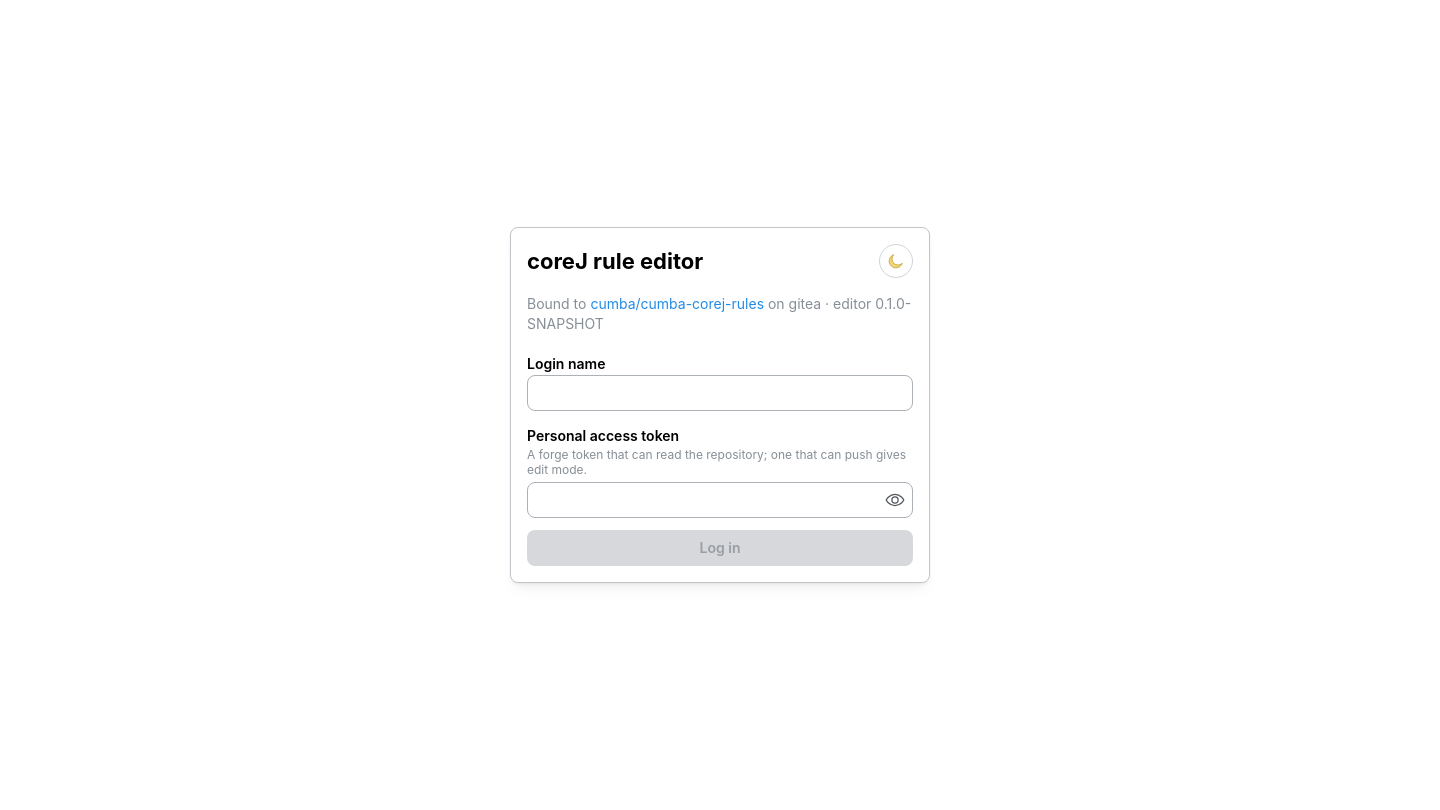
Scenario: App › shows the login page without a session, then the editor after login, then logs out
Expected: the form "Login" is shown, [527,351,913,566]
Expected: the link "cumba/cumba-corej-rules" is shown, [590,295,764,312]
Type "alice" into the field labelled "Login name" at (720, 393), box [527,375,913,411]
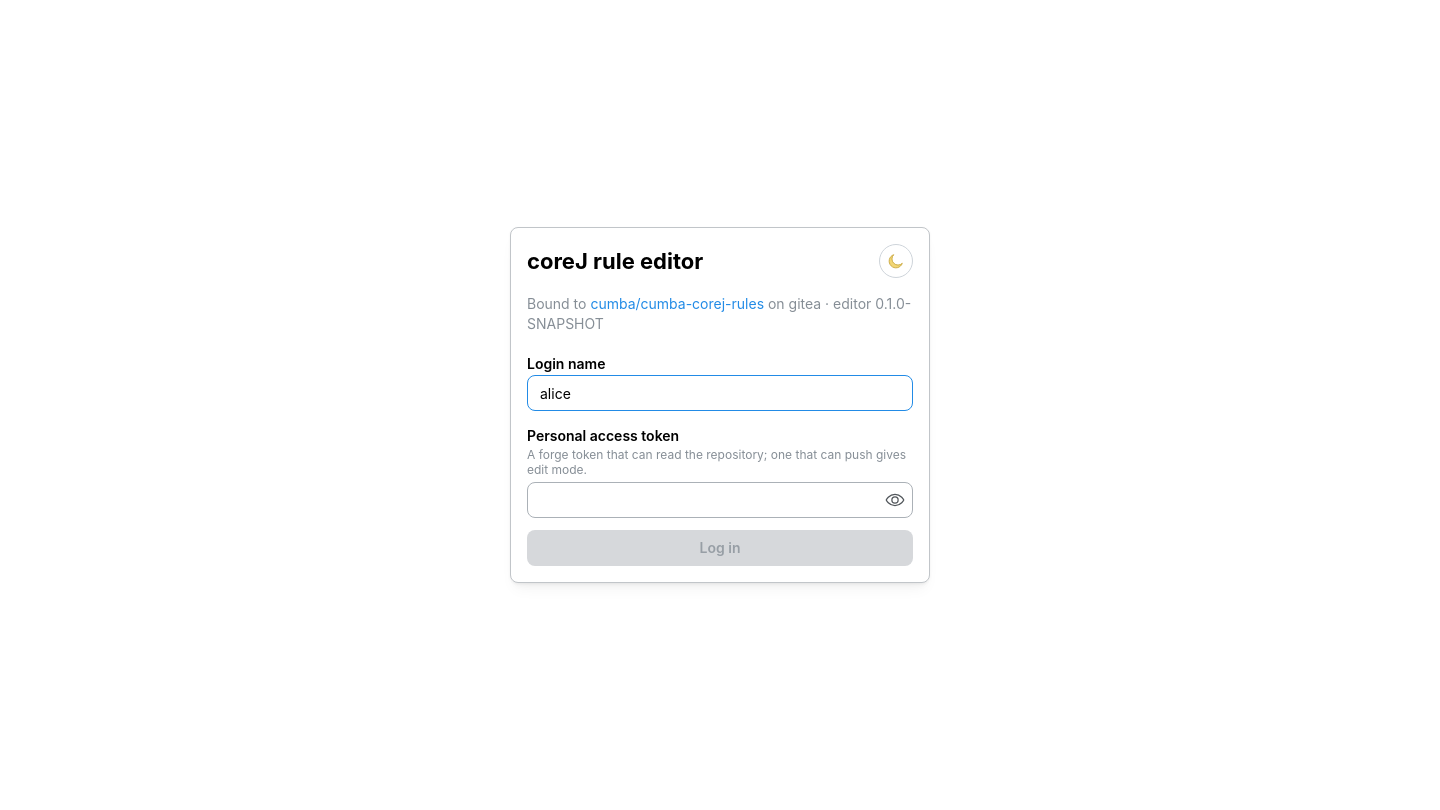
Type "tok" into the password field labelled "Personal access token" at (720, 500), box [528,483,912,517]
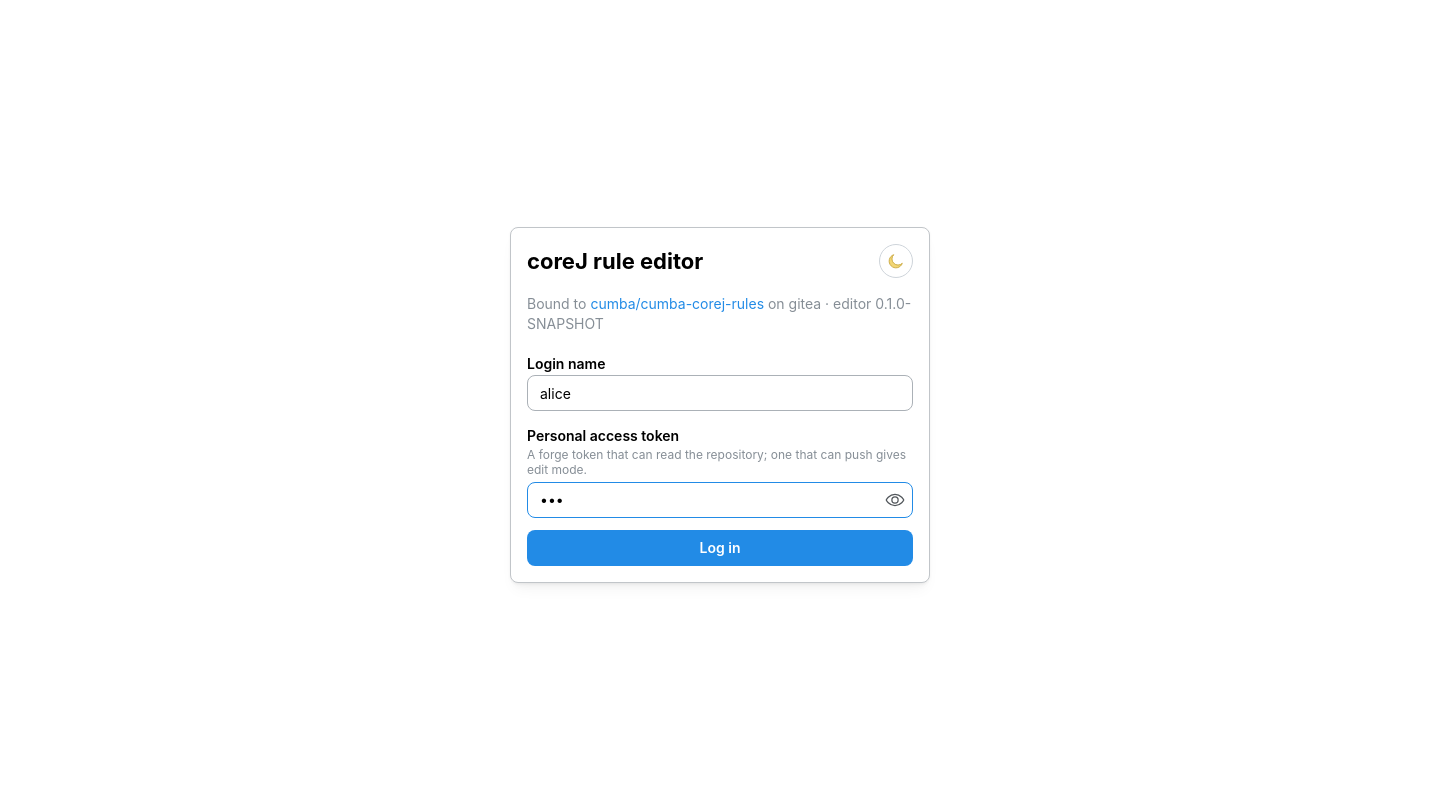
Click the button "Log in" at (720, 548), box [527,530,913,566]
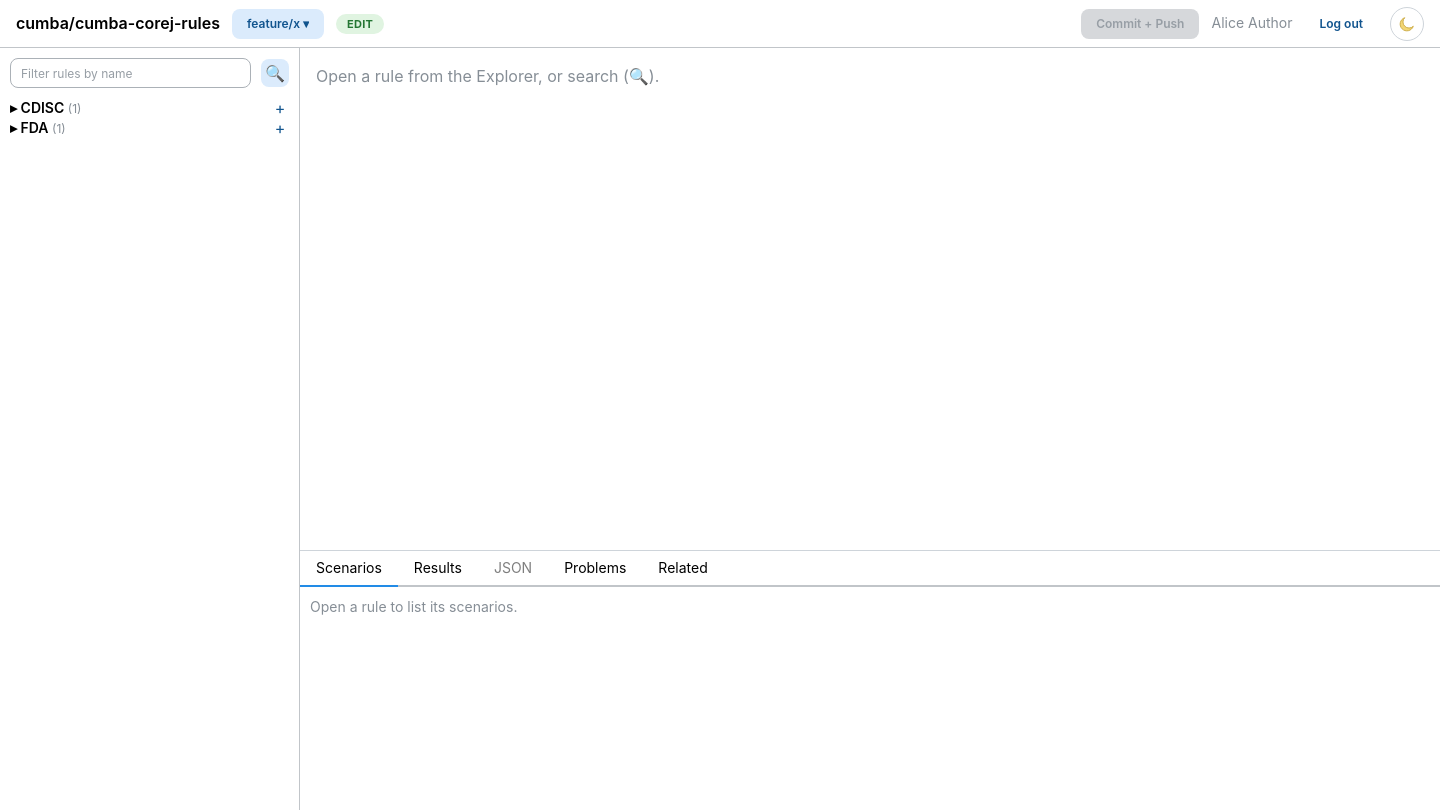
Now the button with aria-label "branch" shows "feature/x", box [232,8,324,38]
Click the button "Log out" at (1341, 24), box [1304,8,1378,38]
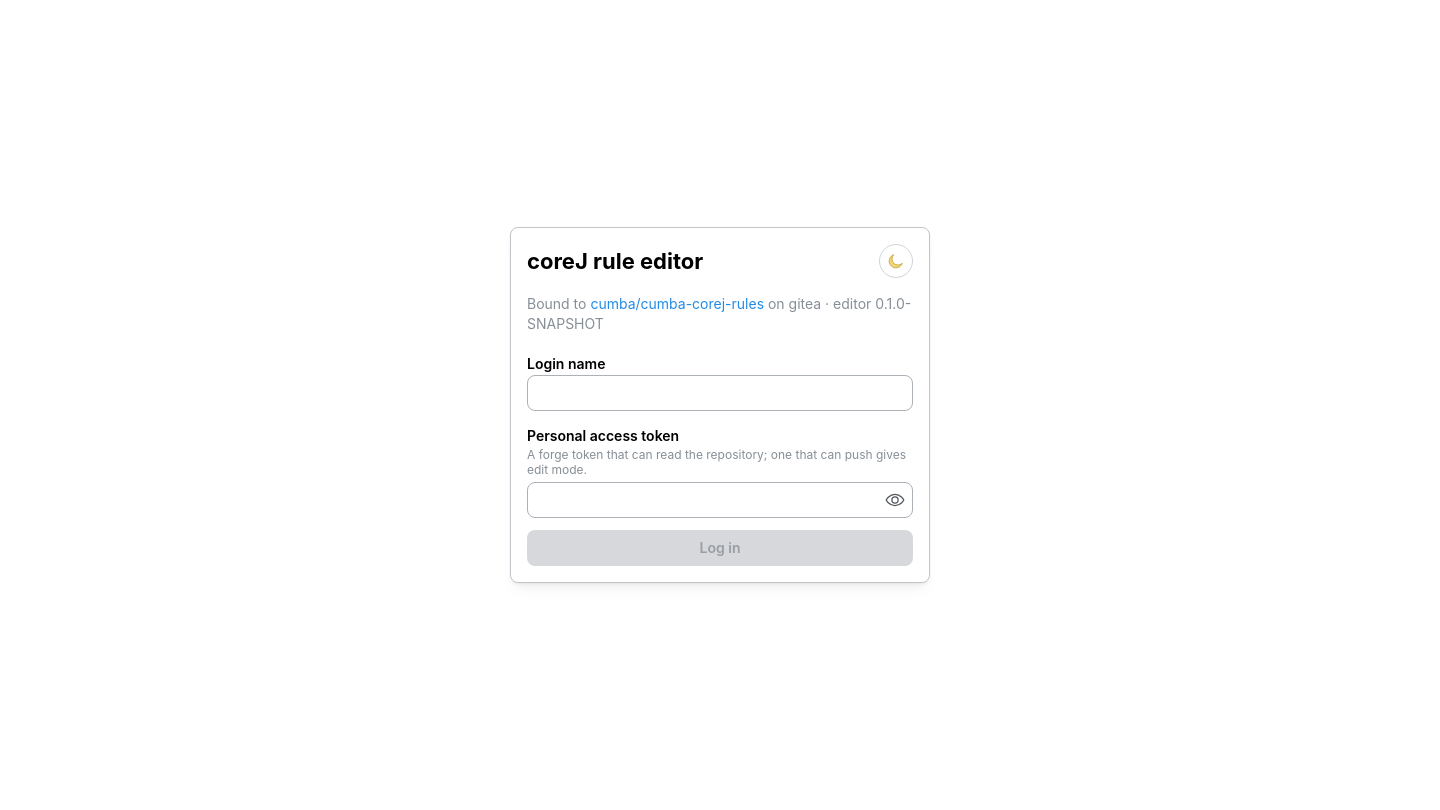
Now the form "Login" is shown, box [527,351,913,566]
